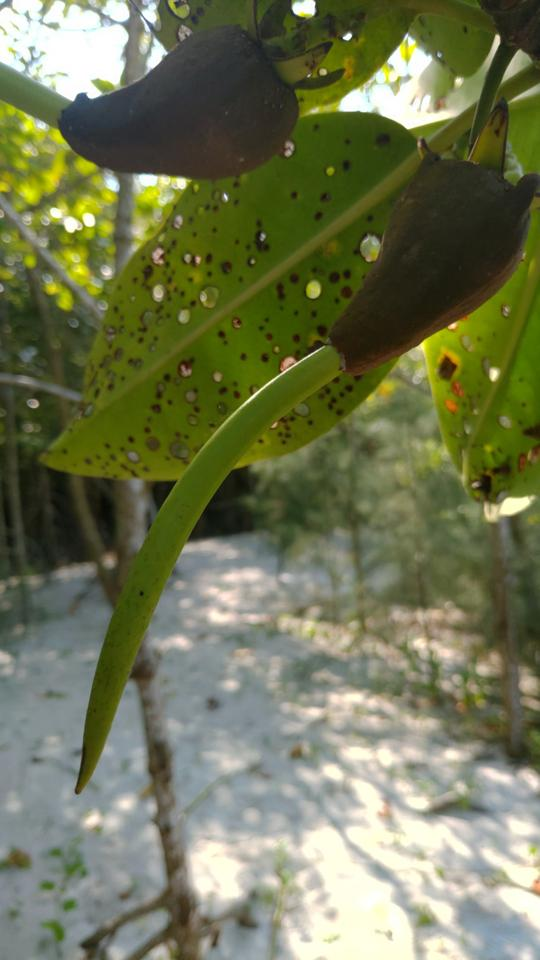mentah: (39, 108, 537, 816)
